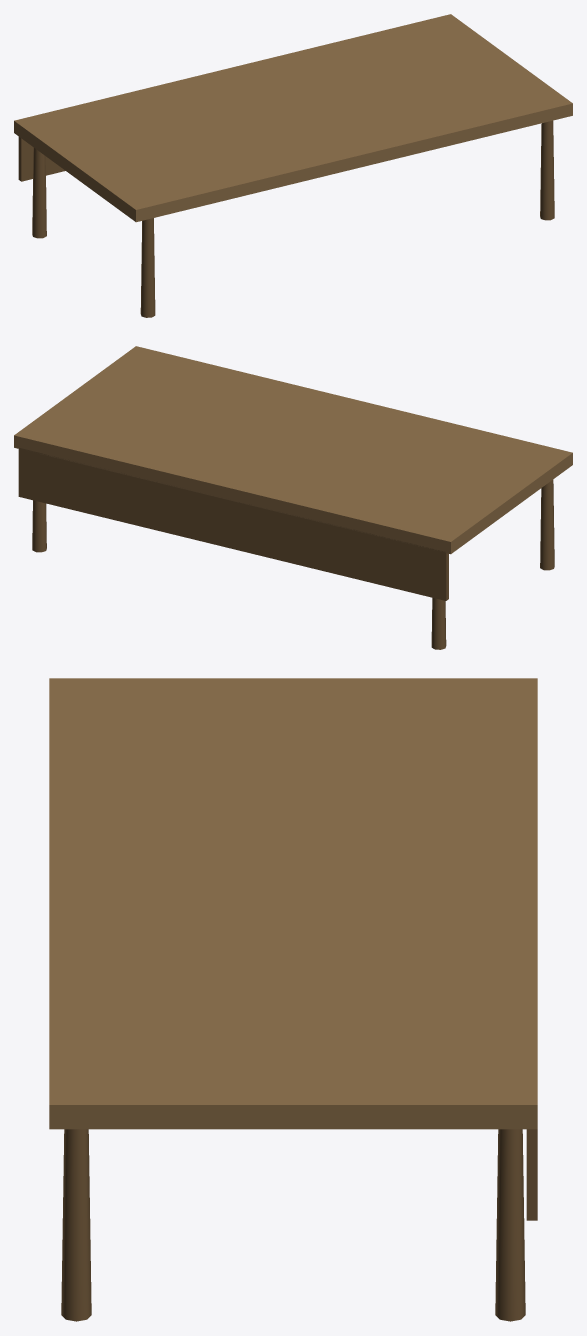
Rendered from simple-desk.glb.
3 renders of one model, top to bottom at view 1: azimuth 30°, elevation 25°; view 2: azimuth 150°, elevation 25°; view 3: azimuth 270°, elevation 25°, orthographic. The views are drawn at different scales.
Size of the model in its own units: 1.86 by 0.465 by 0.9.
